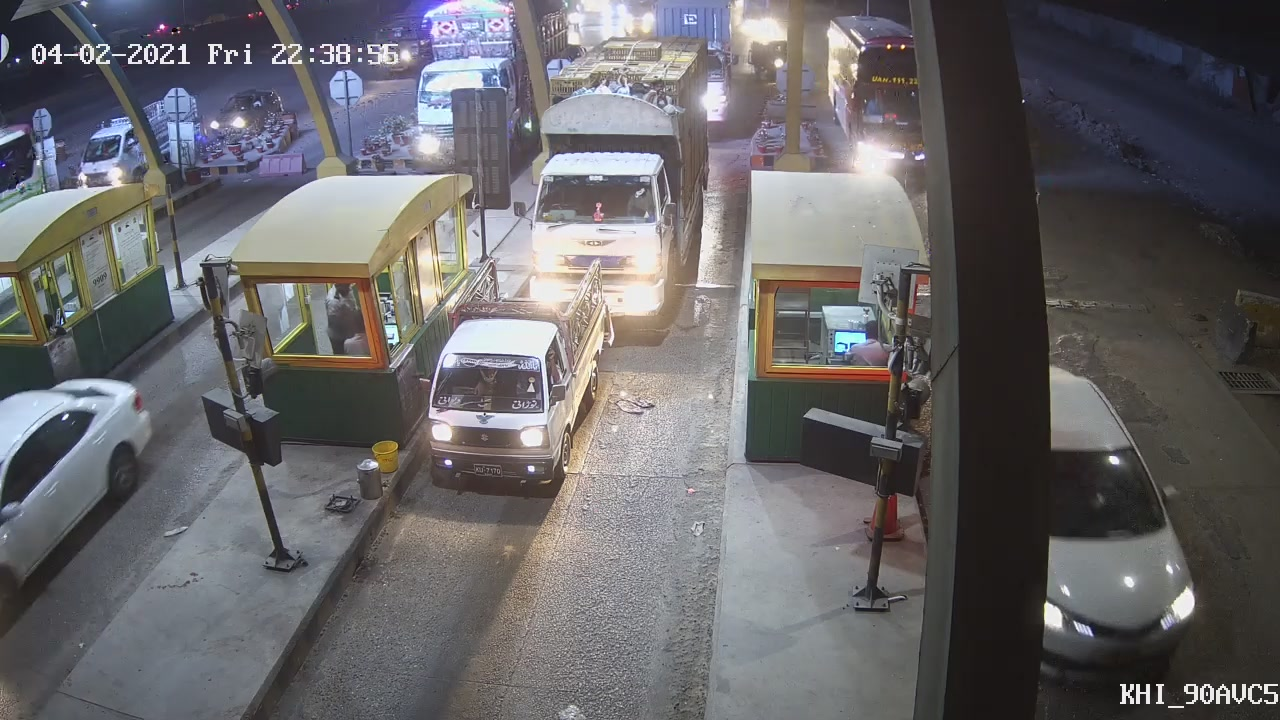F1: (424, 260, 610, 488)
